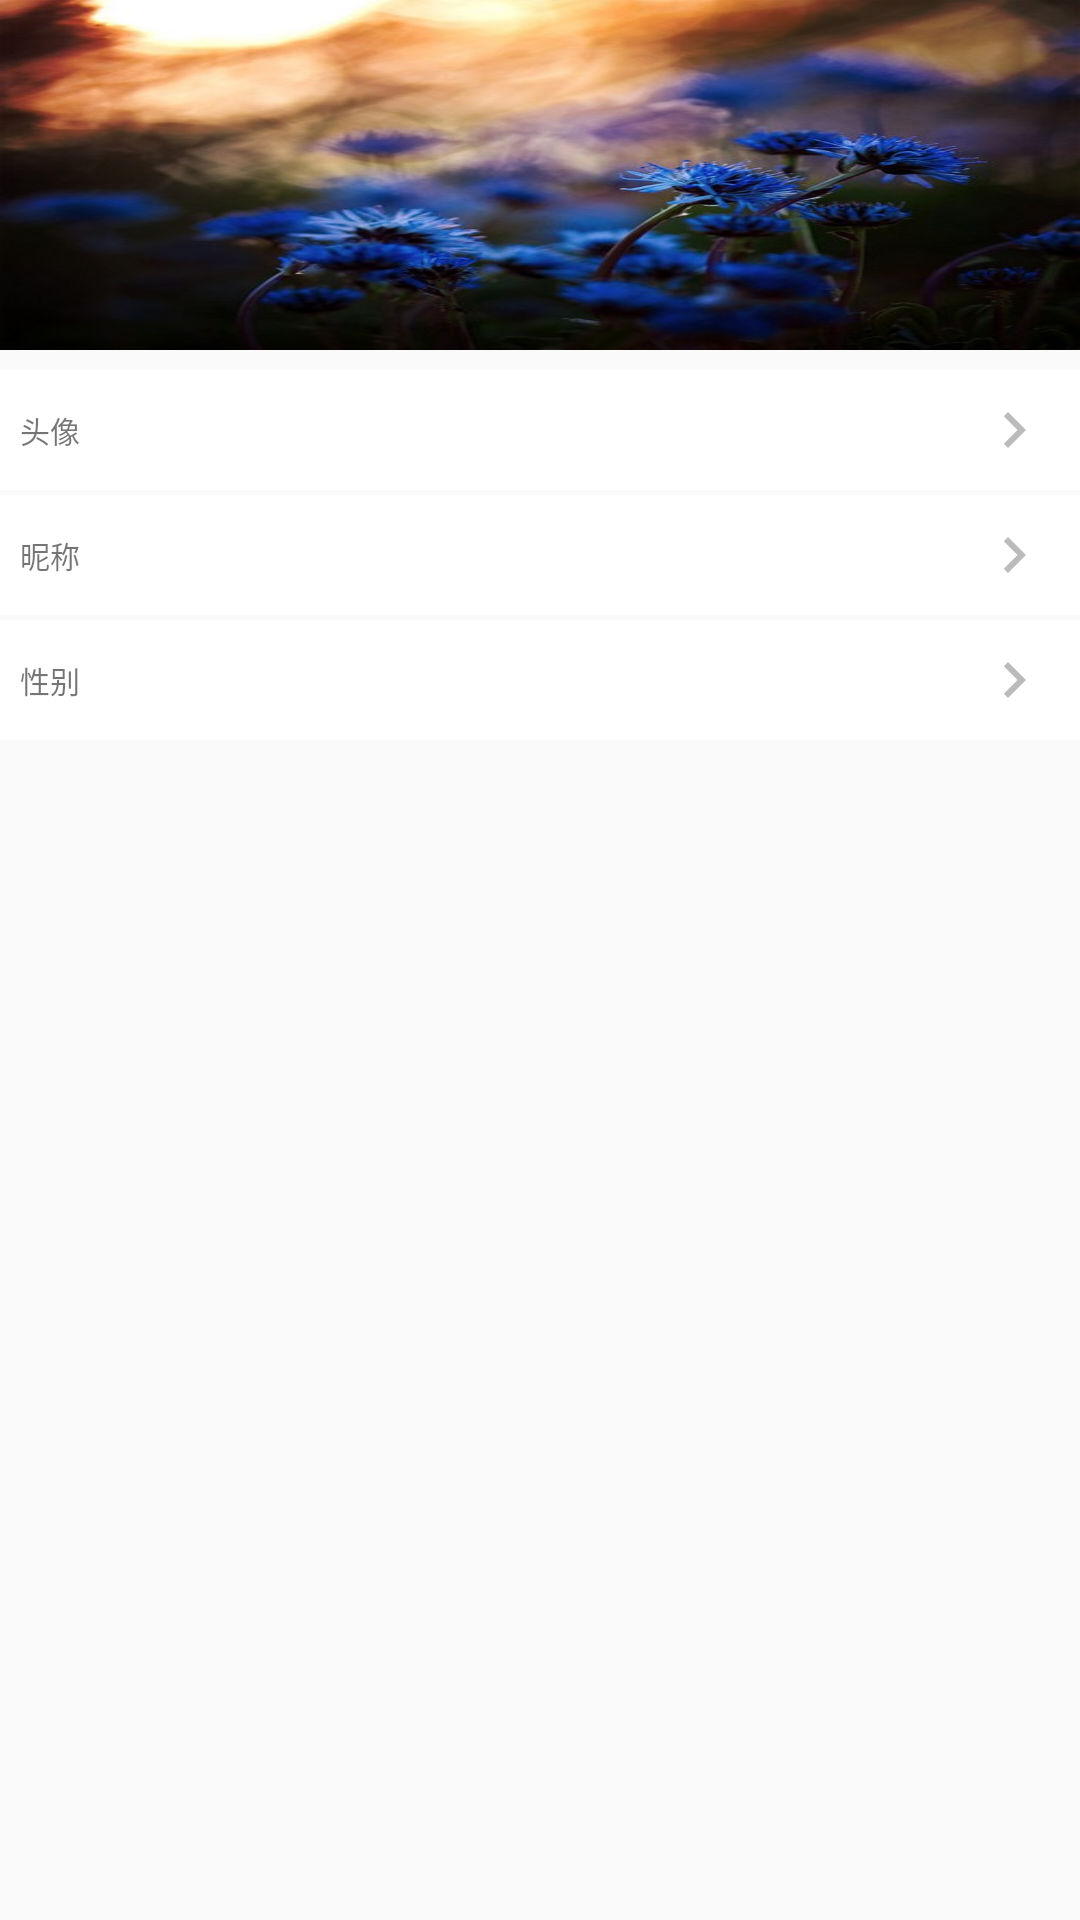

Screen size 1080 x 1920. Icon name, then its center in pixels as (x,y):
forward: (1015,430), (1015,555), (1015,680)
